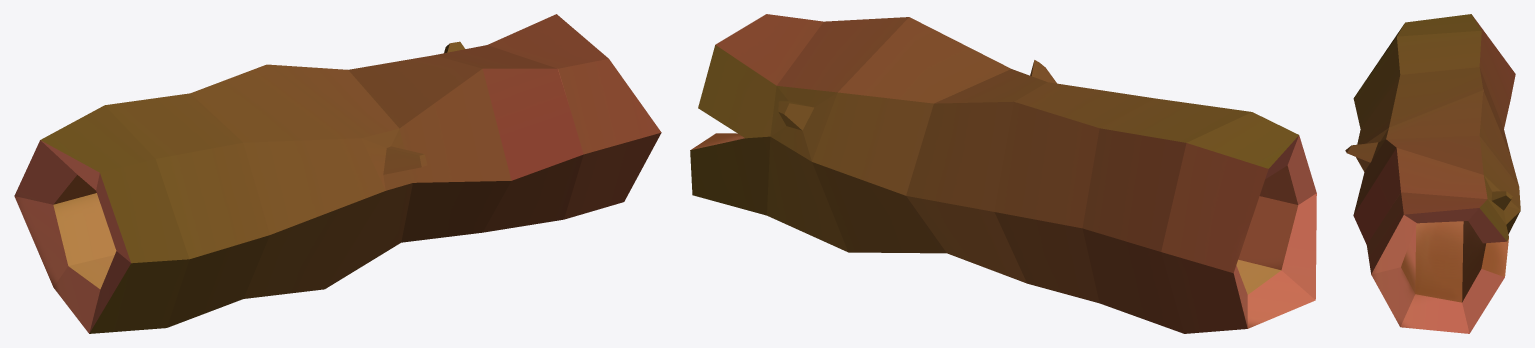
File: Trunk_LowPolyPlantsTextured.fbx
3 renders of one model, left to right at view 1: azimuth 30°, elevation 25°; view 2: azimuth 150°, elevation 25°; view 3: azimuth 270°, elevation 25°, orthographic. The views are drawn at different scales.
Visible parts, largest first — view 1: Circle.001; view 2: Circle.001; view 3: Circle.001.
Part boxes in pixels (bbox=[...]): Circle.001: bbox=[14, 14, 661, 333]; Circle.001: bbox=[690, 14, 1316, 333]; Circle.001: bbox=[1345, 14, 1520, 333].
Bounding box in the file's own units: 658 × 207 × 242.
